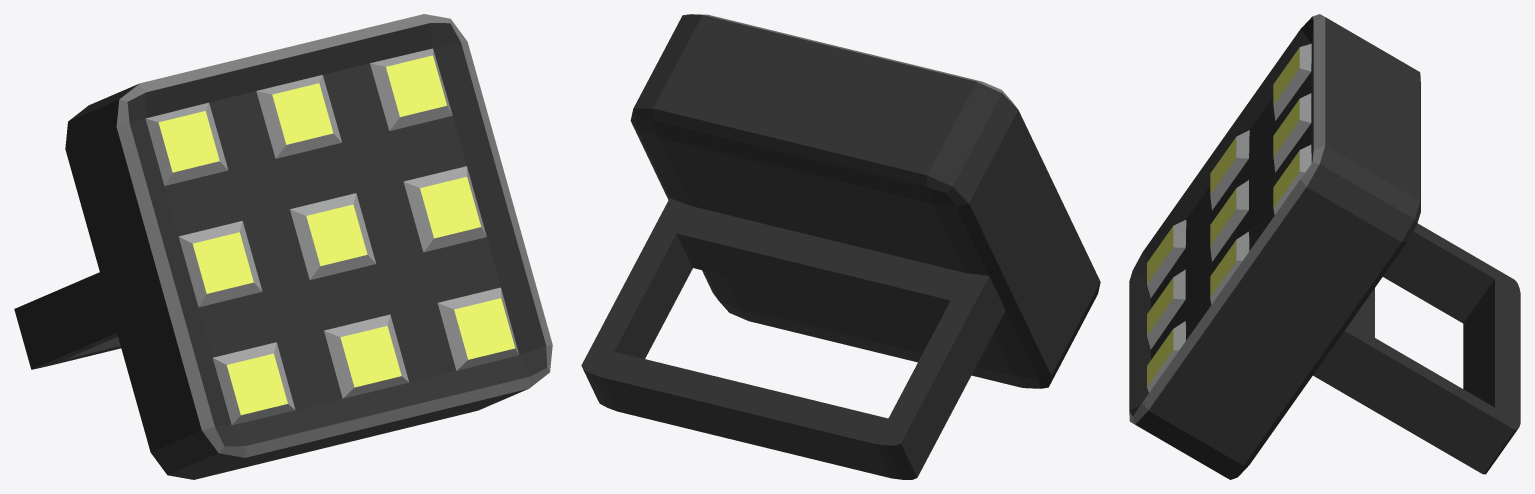
File: LightBox.fbx
The picture shows the model from 3 angles, left to right: view 1: azimuth 30°, elevation 25°; view 2: azimuth 150°, elevation 25°; view 3: azimuth 270°, elevation 25°; orthographic projection. The views are drawn at different scales.
Parts seen in each view (by area): view 1: Cube.006; view 2: Cube.006; view 3: Cube.006.
Boxes of the visible parts, bbox=[...] form: Cube.006: bbox=[14, 14, 552, 479]; Cube.006: bbox=[581, 14, 1100, 479]; Cube.006: bbox=[1129, 14, 1520, 479].
Size of the model in its own units: 100 by 97.23 by 104.
